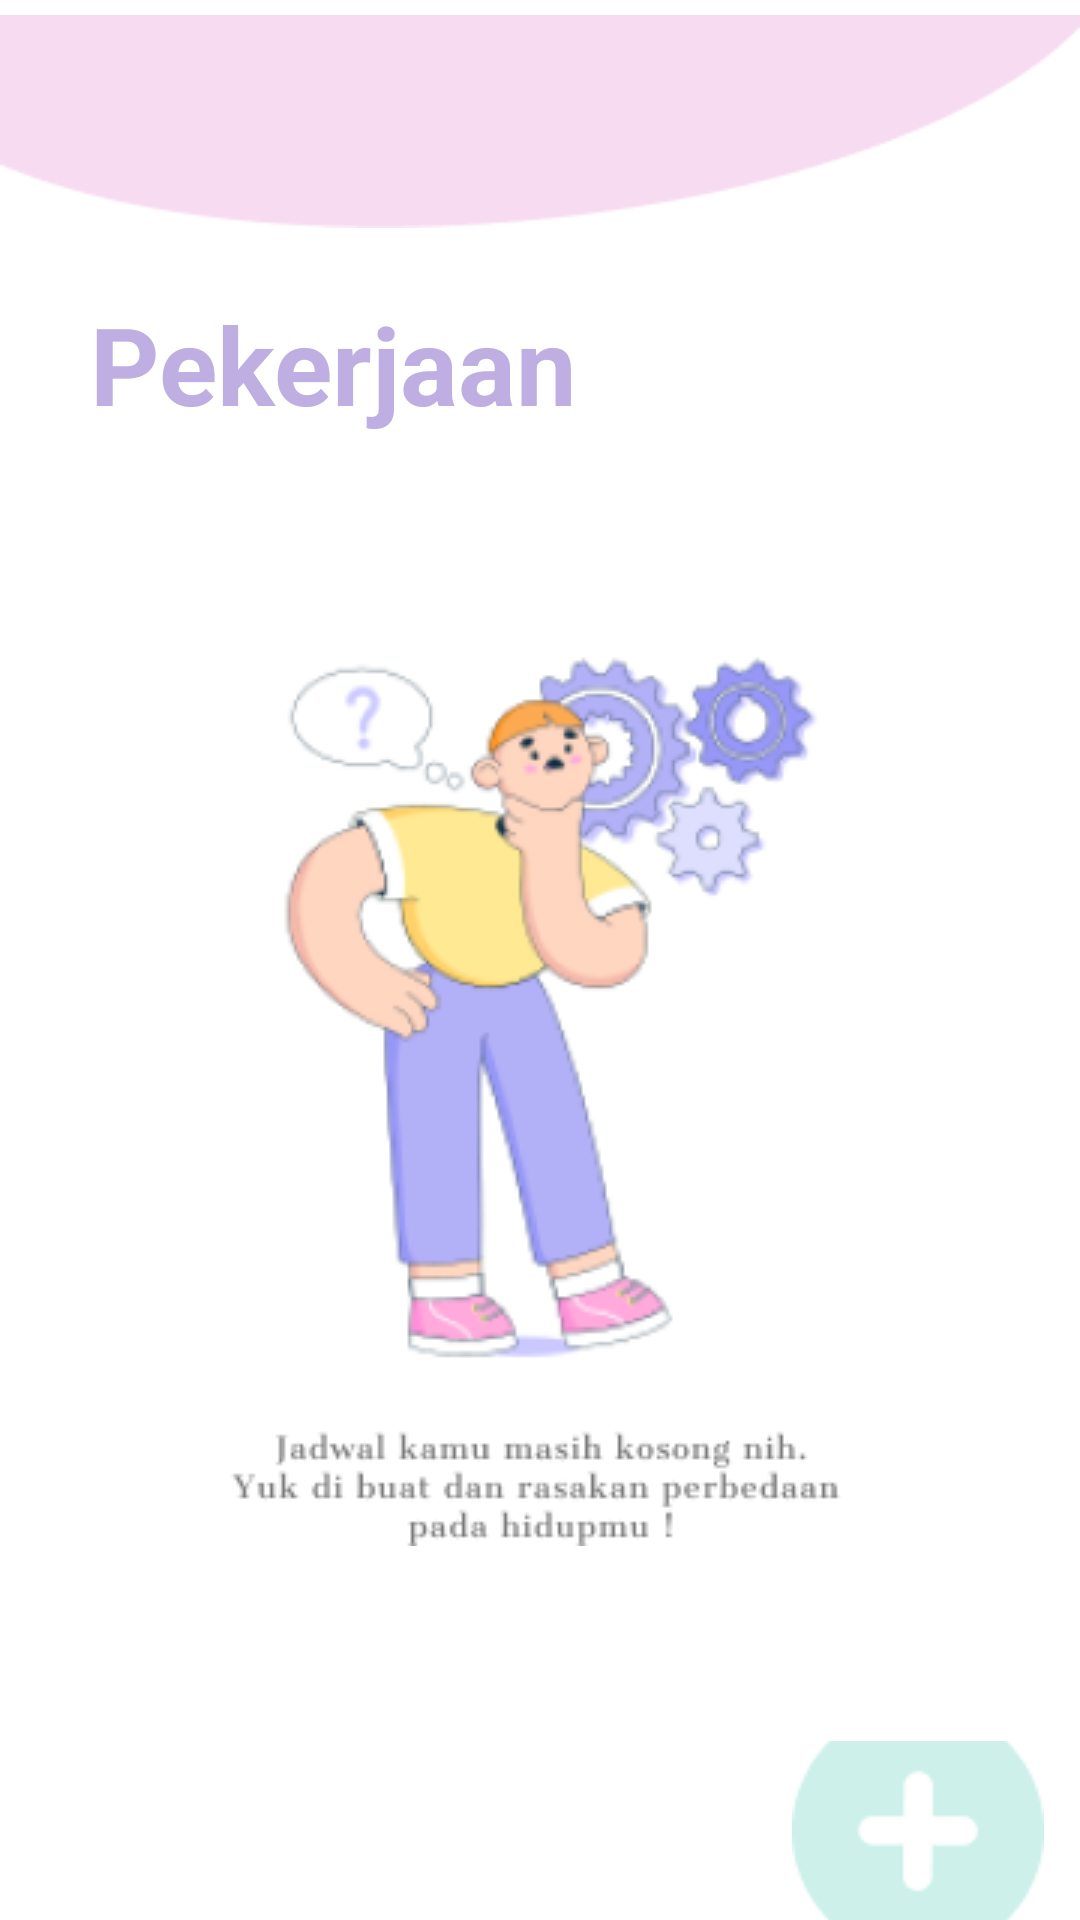

Icons on this 1080px x 1920px Android screen, each with its box as rect(x1, y1, x2, y2):
tambah: rect(792, 1741, 1044, 1920)
